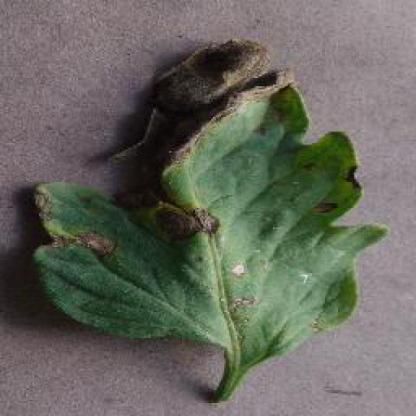Tomato_Blight: (31, 39, 387, 356)
